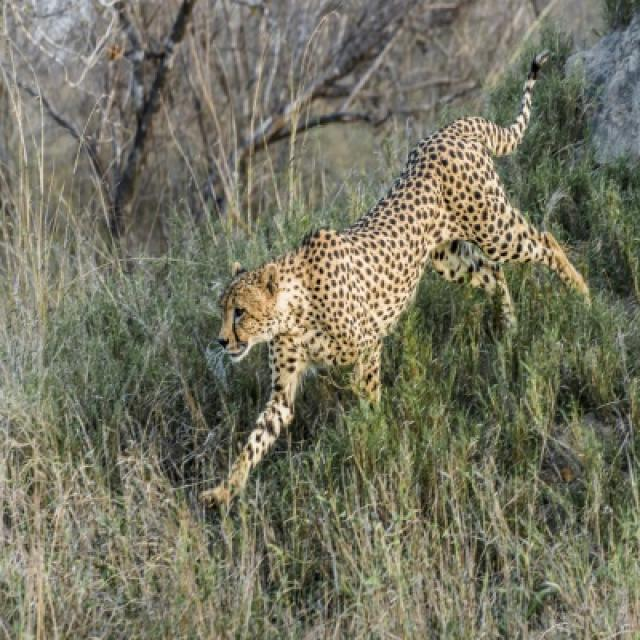Cheetah: (198, 52, 593, 521)
